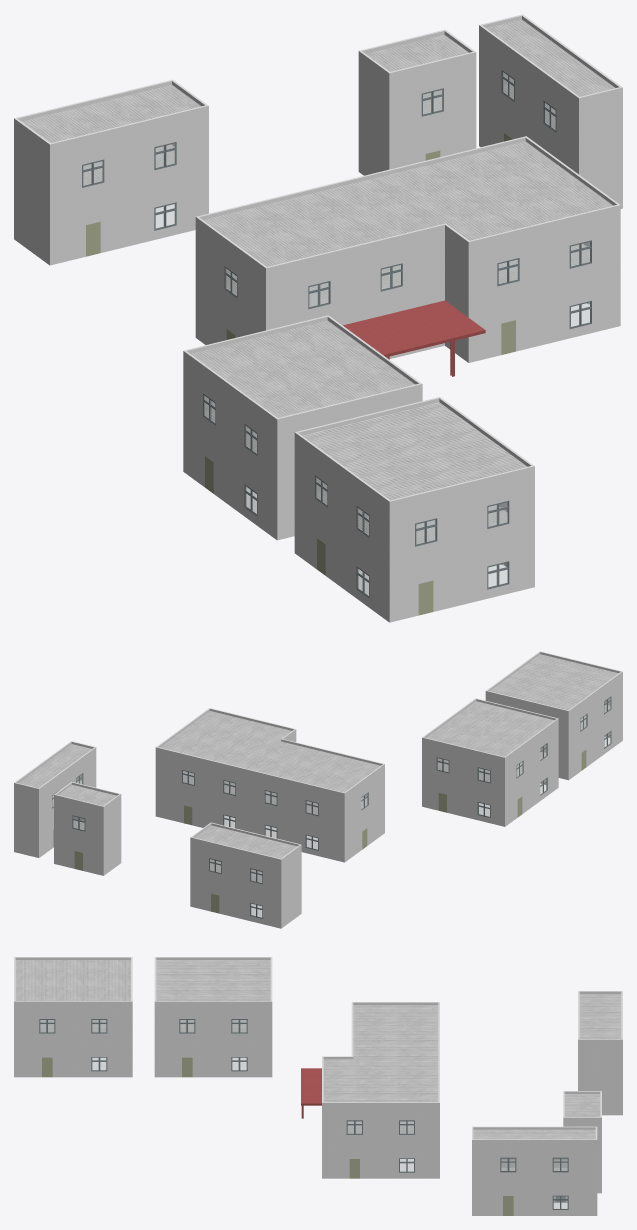
File: Plan(REF)_levels(2)_window(W Double Sash 23_5)_wall(WAFRA WALL)_quoin(N)_cornice(N).fbx
3 views of the same model, one above another, from view 1: azimuth 30°, elevation 25°; view 2: azimuth 150°, elevation 25°; view 3: azimuth 270°, elevation 25° (orthographic). The views are drawn at different scales.
Visible parts, largest first — view 1: WAFRA Stucco - White Rough 23, WAFRA Roof - Corrugated Sheet Matte 23, Metal - Finish - Aluminum, Glass - Clear, WAFRA Roof - Standing Seam Red Coat 23, Color - Beige; view 2: WAFRA Stucco - White Rough 23, WAFRA Roof - Corrugated Sheet Matte 23, Metal - Finish - Aluminum, Glass - Clear, Color - Beige; view 3: WAFRA Stucco - White Rough 23, WAFRA Roof - Corrugated Sheet Matte 23, Metal - Finish - Aluminum, Glass - Clear, Color - Beige, WAFRA Roof - Standing Seam Red Coat 23.
Part boxes in pixels (<box>): WAFRA Stucco - White Rough 23: <box>14,14,622,622</box>; WAFRA Roof - Corrugated Sheet Matte 23: <box>21,19,615,543</box>; Metal - Finish - Aluminum: <box>82,70,591,598</box>; Glass - Clear: <box>83,72,589,595</box>; WAFRA Roof - Standing Seam Red Coat 23: <box>343,300,485,376</box>; Color - Beige: <box>86,133,589,615</box>; WAFRA Stucco - White Rough 23: <box>14,651,622,928</box>; WAFRA Roof - Corrugated Sheet Matte 23: <box>18,654,618,882</box>; Metal - Finish - Aluminum: <box>52,696,611,918</box>; Glass - Clear: <box>52,698,610,917</box>; Color - Beige: <box>53,736,605,913</box>; WAFRA Stucco - White Rough 23: <box>14,957,622,1215</box>; WAFRA Roof - Corrugated Sheet Matte 23: <box>15,960,621,1170</box>; Metal - Finish - Aluminum: <box>39,1019,568,1209</box>; Glass - Clear: <box>40,1020,567,1208</box>; Color - Beige: <box>42,1057,565,1215</box>; WAFRA Roof - Standing Seam Red Coat 23: <box>301,1068,321,1118</box>.
Bounding box in the file's own units: 4148 × 5833 × 800.
Materials: 11 (4 with a texture image).
